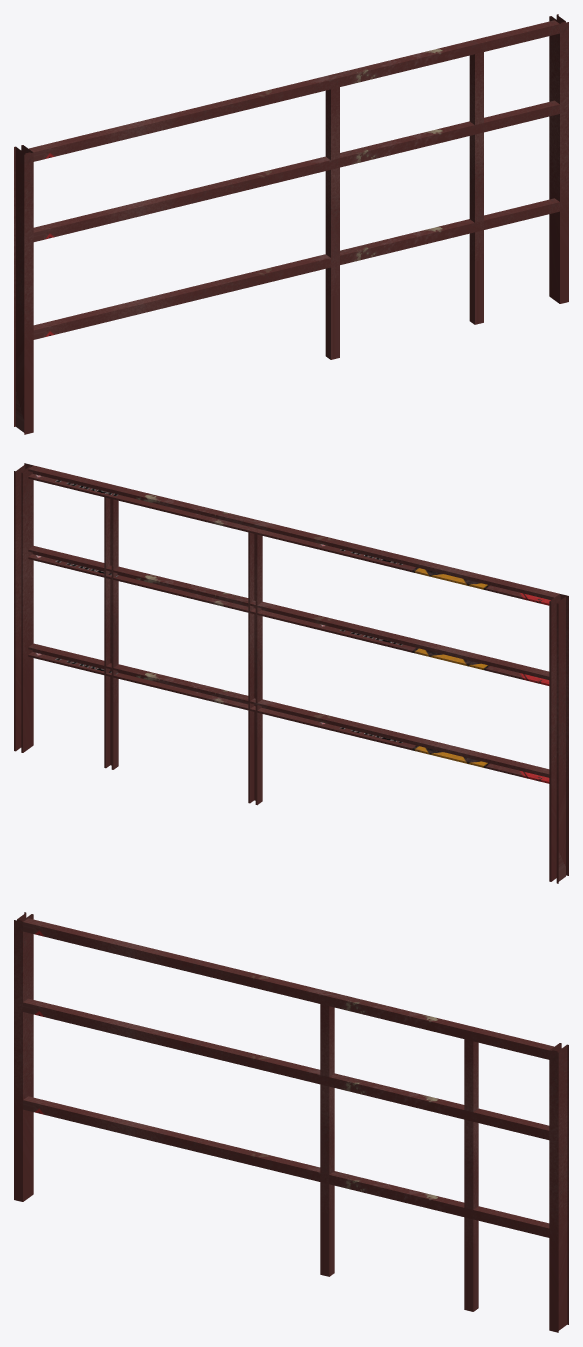
File: CS_formwork_system_05.FBX
3 views of the same model, one above another, from view 1: azimuth 30°, elevation 25°; view 2: azimuth 150°, elevation 25°; view 3: azimuth 330°, elevation 25° (orthographic).
Parts seen in each view (by area): view 1: SM_formwork_system_05; view 2: SM_formwork_system_05; view 3: SM_formwork_system_05.
Part boxes in pixels (x1,y1,x2,y2): SM_formwork_system_05: [14, 14, 568, 434]; SM_formwork_system_05: [14, 463, 568, 883]; SM_formwork_system_05: [14, 912, 568, 1332].
Bounding box in the file's own units: 600 × 20 × 295.
